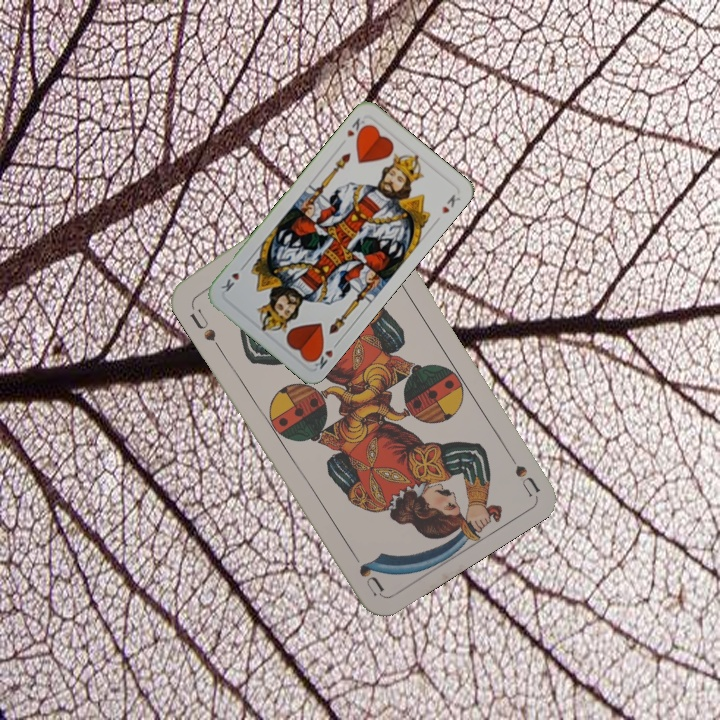HK: (307, 337, 342, 371), (343, 113, 370, 142)
SU: (500, 443, 542, 498), (186, 298, 219, 344)
